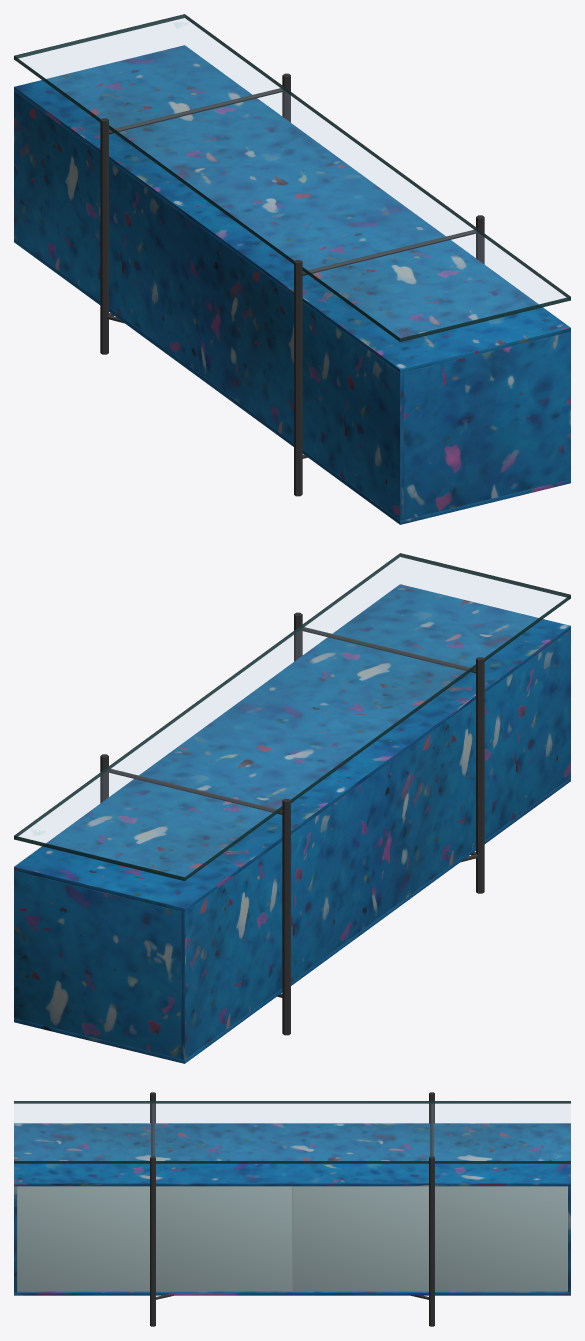
Rendered from nelson_2.glb.
3 renders of one model, top to bottom at view 1: azimuth 30°, elevation 25°; view 2: azimuth 150°, elevation 25°; view 3: azimuth 270°, elevation 25°, orthographic. The views are drawn at different scales.
Parts seen in each view (by area): view 1: Mobile; view 2: Mobile; view 3: Mobile.
Boxes of the visible parts, <box> form: Mobile: <box>14,14,570,524</box>; Mobile: <box>14,553,570,1063</box>; Mobile: <box>14,1092,570,1326</box>.
Bounding box in the file's own units: 0.5075 × 0.6 × 1.8.
7 materials, 1 textured.
